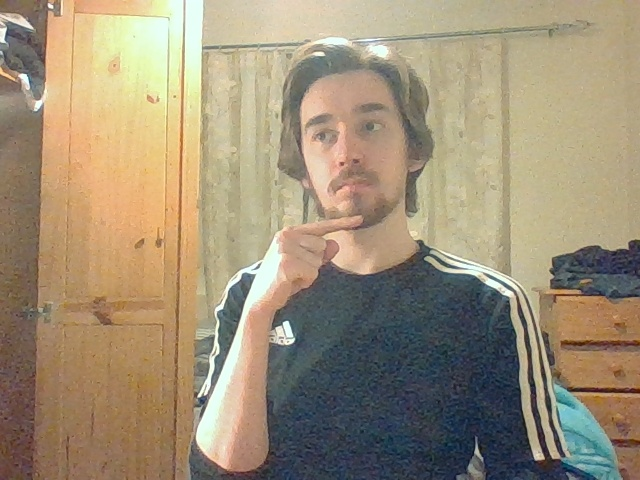son: (274, 215, 362, 285)
